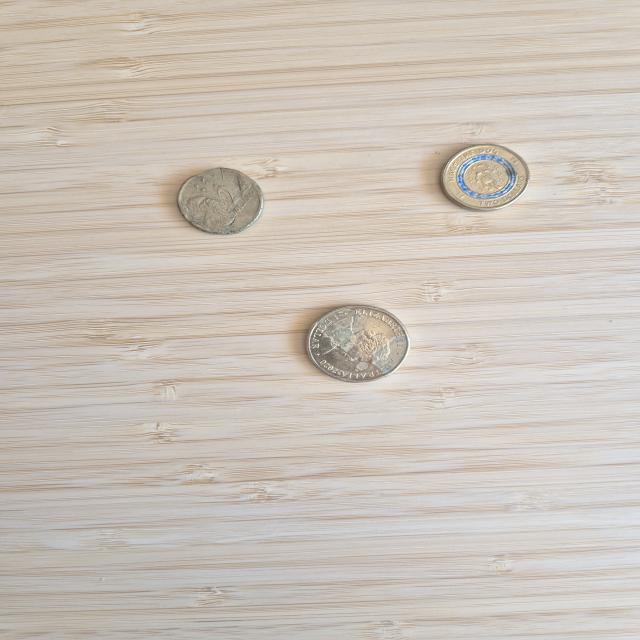1-dollar: (296, 300, 411, 386)
2-dollar: (425, 142, 534, 216), (163, 164, 266, 239)
